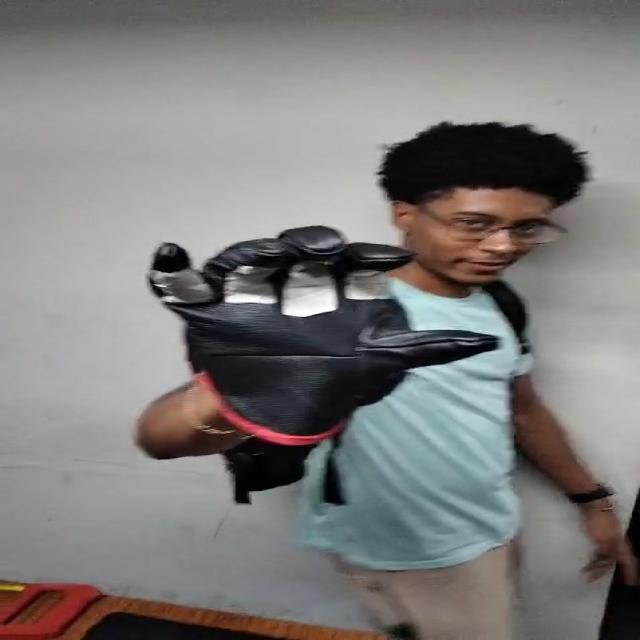Gloves: (144, 226, 492, 444)
